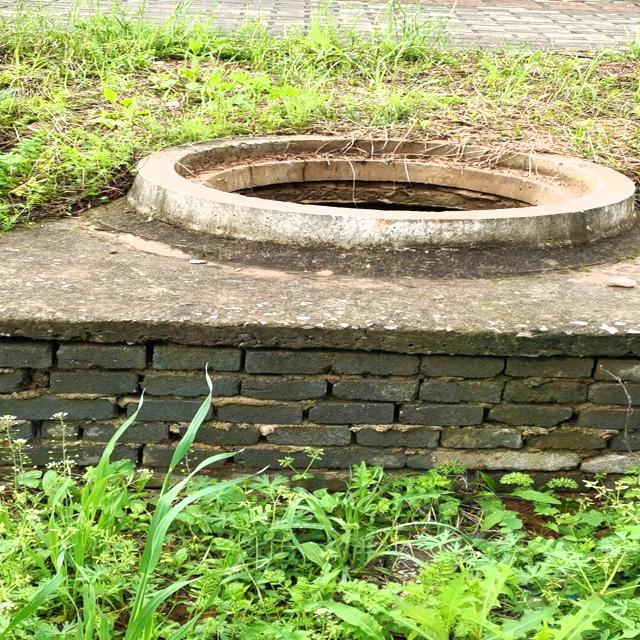lose: (131, 126, 628, 248)
